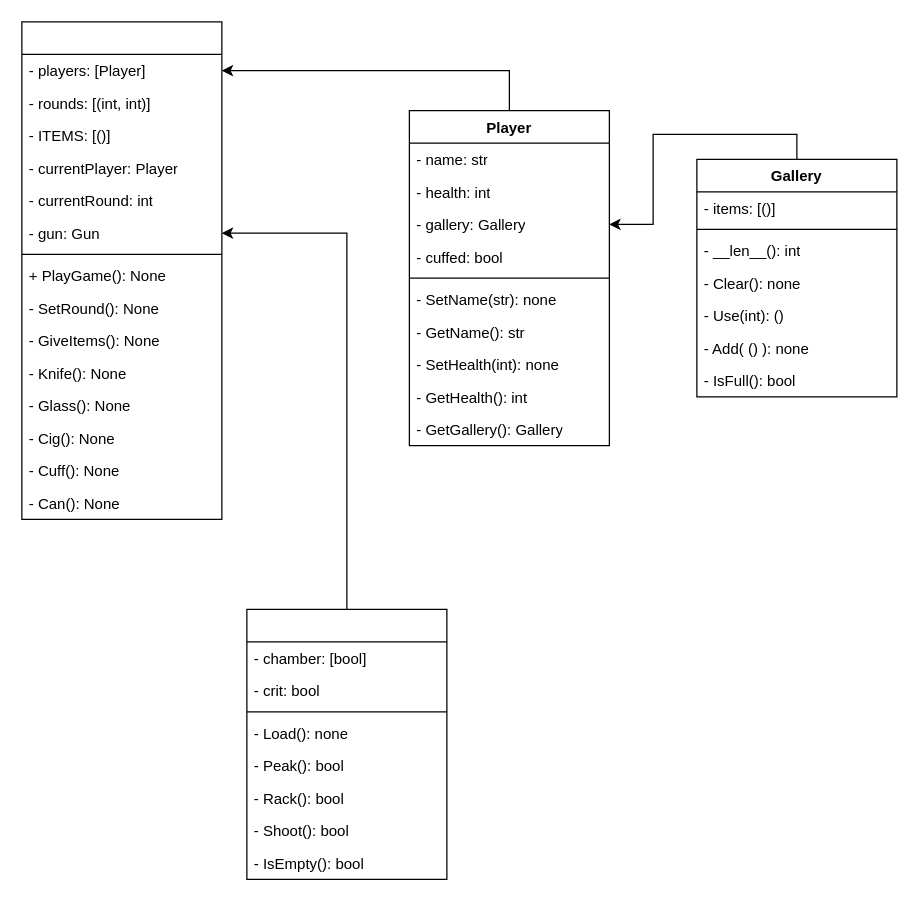
The diagram is 919 pixels wide and 905 high, and some of its shapes have lost their labels. The shapes that lost their labels are listed below. From the top down, each one's box as (x1, y1, x2, y2) in pixels, then its label:
(21, 21, 222, 519): BR
(246, 608, 447, 879): Gun
